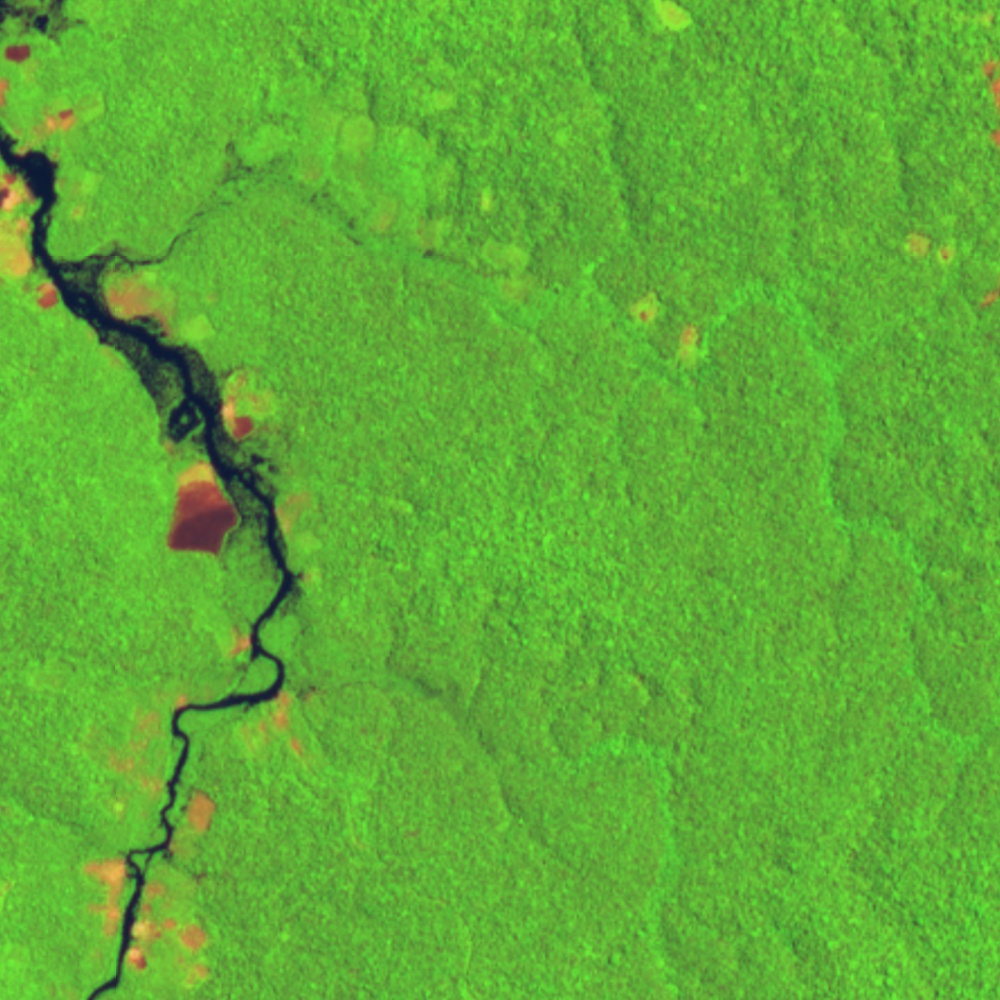legal: (76, 856, 217, 988), (219, 616, 324, 767), (104, 686, 199, 812), (1, 154, 62, 311), (162, 459, 244, 561), (211, 366, 298, 450), (98, 264, 184, 341), (15, 90, 106, 157), (621, 291, 705, 363), (1, 28, 41, 129), (904, 229, 964, 268), (180, 785, 219, 840), (978, 56, 1000, 144), (651, 1, 692, 37), (980, 279, 1000, 311)
